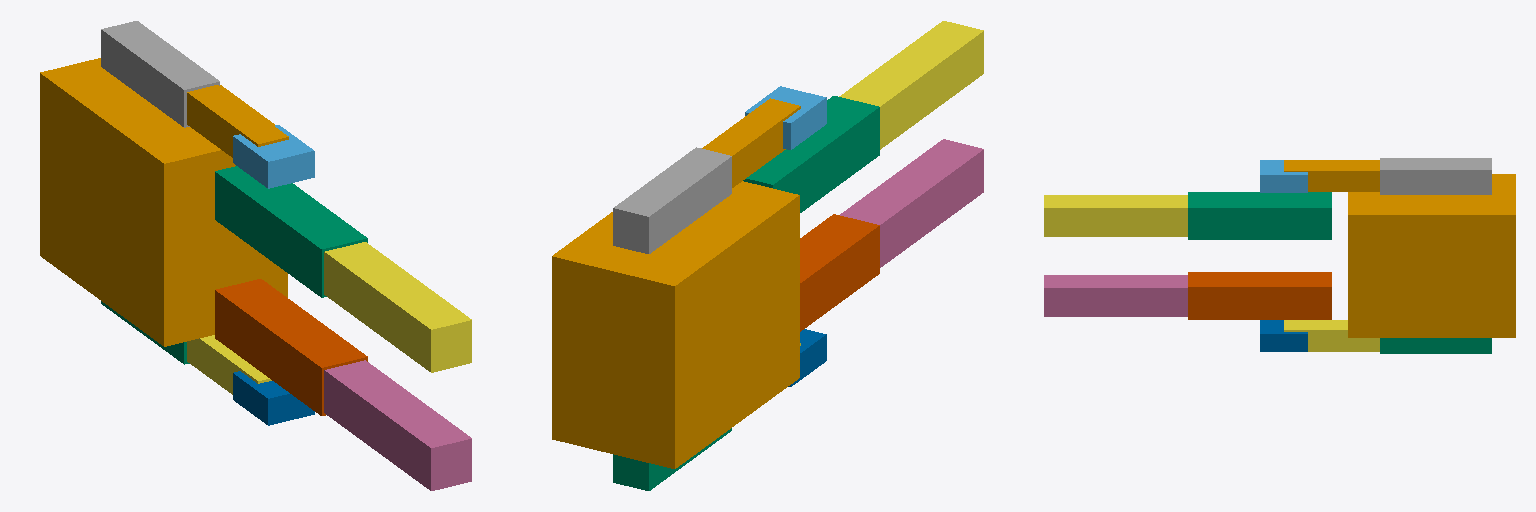
The robot description file, URDF, robot "rne_humanoid":
<?xml version="1.0"?>
<robot name="rne_humanoid">
  <link name="base_link">
    <visual><origin xyz="0 0.05 0"/><geometry><box size="0.24 0.42 0.34"/></geometry></visual>
    <collision><origin xyz="0 0.05 0"/><geometry><box size="0.24 0.42 0.34"/></geometry></collision>
  </link>

  <!-- Left leg: hip roll, hip pitch, knee pitch. -->
  <link name="left_hip"/>
  <link name="left_thigh">
    <visual><origin xyz="0 -0.18 0"/><geometry><box size="0.09 0.36 0.09"/></geometry></visual>
    <collision><origin xyz="0 -0.18 0"/><geometry><box size="0.09 0.36 0.09"/></geometry></collision>
  </link>
  <link name="left_foot">
    <visual><origin xyz="0 -0.18 0"/><geometry><box size="0.08 0.36 0.08"/></geometry></visual>
    <collision><origin xyz="0 -0.18 0"/><geometry><box size="0.08 0.36 0.08"/></geometry></collision>
    <collision><origin xyz="0.05 -0.385 0"/><geometry><box size="0.24 0.05 0.14"/></geometry></collision>
  </link>
  <joint name="left_hip_roll_joint" type="revolute">
    <parent link="base_link"/><child link="left_hip"/><origin xyz="0 -0.20 0.11"/><axis xyz="1 0 0"/><limit lower="-0.5" upper="0.5" effort="80" velocity="5"/>
  </joint>
  <joint name="left_hip_pitch_joint" type="revolute">
    <parent link="left_hip"/><child link="left_thigh"/><axis xyz="0 0 1"/><limit lower="-1.0" upper="1.0" effort="80" velocity="5"/>
  </joint>
  <joint name="left_knee_joint" type="revolute">
    <parent link="left_thigh"/><child link="left_foot"/><origin xyz="0 -0.36 0"/><axis xyz="0 0 1"/><limit lower="-0.1" upper="1.4" effort="80" velocity="5"/>
  </joint>

  <!-- Right leg. -->
  <link name="right_hip"/>
  <link name="right_thigh">
    <visual><origin xyz="0 -0.18 0"/><geometry><box size="0.09 0.36 0.09"/></geometry></visual>
    <collision><origin xyz="0 -0.18 0"/><geometry><box size="0.09 0.36 0.09"/></geometry></collision>
  </link>
  <link name="right_foot">
    <visual><origin xyz="0 -0.18 0"/><geometry><box size="0.08 0.36 0.08"/></geometry></visual>
    <collision><origin xyz="0 -0.18 0"/><geometry><box size="0.08 0.36 0.08"/></geometry></collision>
    <collision><origin xyz="0.05 -0.385 0"/><geometry><box size="0.24 0.05 0.14"/></geometry></collision>
  </link>
  <joint name="right_hip_roll_joint" type="revolute">
    <parent link="base_link"/><child link="right_hip"/><origin xyz="0 -0.20 -0.11"/><axis xyz="1 0 0"/><limit lower="-0.5" upper="0.5" effort="80" velocity="5"/>
  </joint>
  <joint name="right_hip_pitch_joint" type="revolute">
    <parent link="right_hip"/><child link="right_thigh"/><axis xyz="0 0 1"/><limit lower="-1.0" upper="1.0" effort="80" velocity="5"/>
  </joint>
  <joint name="right_knee_joint" type="revolute">
    <parent link="right_thigh"/><child link="right_foot"/><origin xyz="0 -0.36 0"/><axis xyz="0 0 1"/><limit lower="-0.1" upper="1.4" effort="80" velocity="5"/>
  </joint>

  <!-- Arms provide the upper-body DoFs reused by later balance policies. -->
  <link name="left_upper_arm"><visual><origin xyz="0 -0.14 0"/><geometry><box size="0.07 0.28 0.07"/></geometry></visual></link>
  <link name="left_forearm"><visual><origin xyz="0 -0.12 0"/><geometry><box size="0.06 0.24 0.06"/></geometry></visual></link>
  <link name="left_hand"><visual><geometry><box size="0.09 0.12 0.05"/></geometry></visual></link>
  <joint name="left_shoulder_roll_joint" type="revolute"><parent link="base_link"/><child link="left_upper_arm"/><origin xyz="0 0.20 0.22"/><axis xyz="1 0 0"/><limit lower="-1.5" upper="1.5" effort="30" velocity="6"/></joint>
  <joint name="left_shoulder_pitch_joint" type="revolute"><parent link="left_upper_arm"/><child link="left_forearm"/><origin xyz="0 -0.28 0"/><axis xyz="0 0 1"/><limit lower="-1.5" upper="1.5" effort="30" velocity="6"/></joint>
  <joint name="left_elbow_joint" type="revolute"><parent link="left_forearm"/><child link="left_hand"/><origin xyz="0 -0.24 0"/><axis xyz="0 0 1"/><limit lower="0" upper="1.5" effort="20" velocity="6"/></joint>

  <link name="right_upper_arm"><visual><origin xyz="0 -0.14 0"/><geometry><box size="0.07 0.28 0.07"/></geometry></visual></link>
  <link name="right_forearm"><visual><origin xyz="0 -0.12 0"/><geometry><box size="0.06 0.24 0.06"/></geometry></visual></link>
  <link name="right_hand"><visual><geometry><box size="0.09 0.12 0.05"/></geometry></visual></link>
  <joint name="right_shoulder_roll_joint" type="revolute"><parent link="base_link"/><child link="right_upper_arm"/><origin xyz="0 0.20 -0.22"/><axis xyz="1 0 0"/><limit lower="-1.5" upper="1.5" effort="30" velocity="6"/></joint>
  <joint name="right_shoulder_pitch_joint" type="revolute"><parent link="right_upper_arm"/><child link="right_forearm"/><origin xyz="0 -0.28 0"/><axis xyz="0 0 1"/><limit lower="-1.5" upper="1.5" effort="30" velocity="6"/></joint>
  <joint name="right_elbow_joint" type="revolute"><parent link="right_forearm"/><child link="right_hand"/><origin xyz="0 -0.24 0"/><axis xyz="0 0 1"/><limit lower="0" upper="1.5" effort="20" velocity="6"/></joint>
</robot>

--- What the picture shows (computed from the rendered views, not written in the file) ---
The picture shows the robot from 3 angles, left to right: view 1: azimuth 30°, elevation 25°; view 2: azimuth 150°, elevation 25°; view 3: azimuth 270°, elevation 25°; orthographic projection.
Model rne_humanoid with 13 links and 12 joints (12 revolute), rooted at base_link, posed every joint at zero.
Visible links, largest first — view 1: base_link, left_foot, right_foot, right_thigh, left_thigh, left_upper_arm, left_forearm, left_hand, right_hand, right_forearm; view 2: base_link, left_foot, right_foot, left_upper_arm, left_thigh, right_thigh, left_forearm, left_hand, right_upper_arm, right_hand; view 3: base_link, right_thigh, left_thigh, left_foot, right_foot, left_upper_arm, left_forearm, right_forearm, right_upper_arm, left_hand, right_hand.
Boxes of the visible links, <box> form: base_link: <box>40,58,287,346</box>; left_foot: <box>324,242,471,372</box>; right_foot: <box>324,360,471,490</box>; right_thigh: <box>215,279,367,415</box>; left_thigh: <box>215,166,367,297</box>; left_upper_arm: <box>101,21,219,127</box>; left_forearm: <box>187,85,288,157</box>; left_hand: <box>233,125,314,188</box>; right_hand: <box>233,371,314,425</box>; right_forearm: <box>187,335,271,394</box>; base_link: <box>552,181,799,468</box>; left_foot: <box>839,21,983,149</box>; right_foot: <box>840,139,983,267</box>; left_upper_arm: <box>613,147,731,253</box>; left_thigh: <box>743,96,879,212</box>; right_thigh: <box>800,214,879,331</box>; left_forearm: <box>702,98,800,187</box>; left_hand: <box>745,86,826,149</box>; right_upper_arm: <box>613,428,731,490</box>; right_hand: <box>788,329,826,386</box>; base_link: <box>1348,174,1515,337</box>; right_thigh: <box>1188,272,1331,319</box>; left_thigh: <box>1188,192,1331,239</box>; left_foot: <box>1044,195,1187,236</box>; right_foot: <box>1044,275,1187,316</box>; left_upper_arm: <box>1380,158,1491,194</box>; left_forearm: <box>1284,160,1379,191</box>; right_forearm: <box>1284,320,1379,351</box>; right_upper_arm: <box>1380,338,1491,353</box>; left_hand: <box>1260,160,1307,192</box>; right_hand: <box>1260,320,1307,351</box>.
Size in the robot's own frame: 0.24 by 1.18 by 0.51 metres.
Geometry: primitives only (box / cylinder / sphere), no mesh files.
